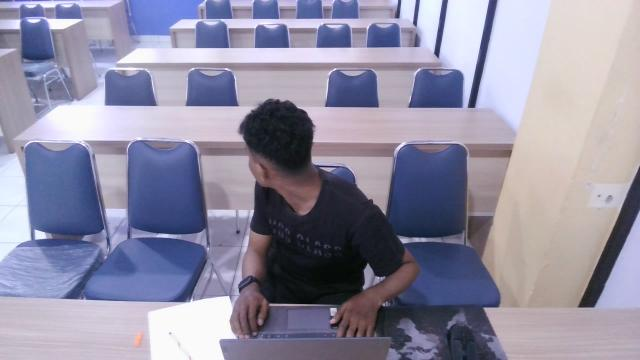Turning_Back: (223, 82, 398, 309)
